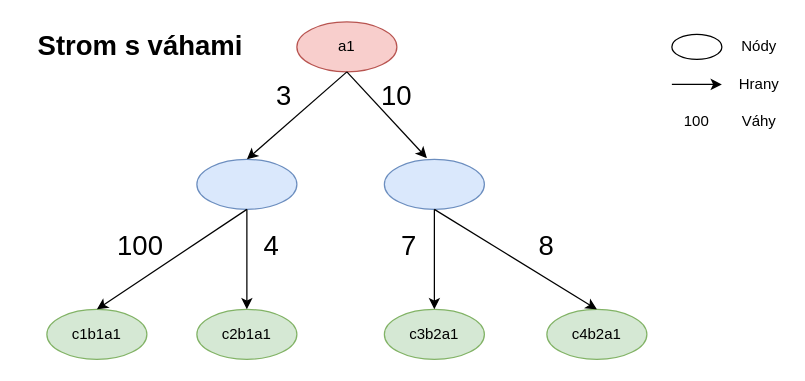
Image size: 805x381. Some labels were removed from this diagram. The centre of each missing label's shape, as x and y in pixels:
b1a1: the point at 246,183
b2a1: the point at 433,183
